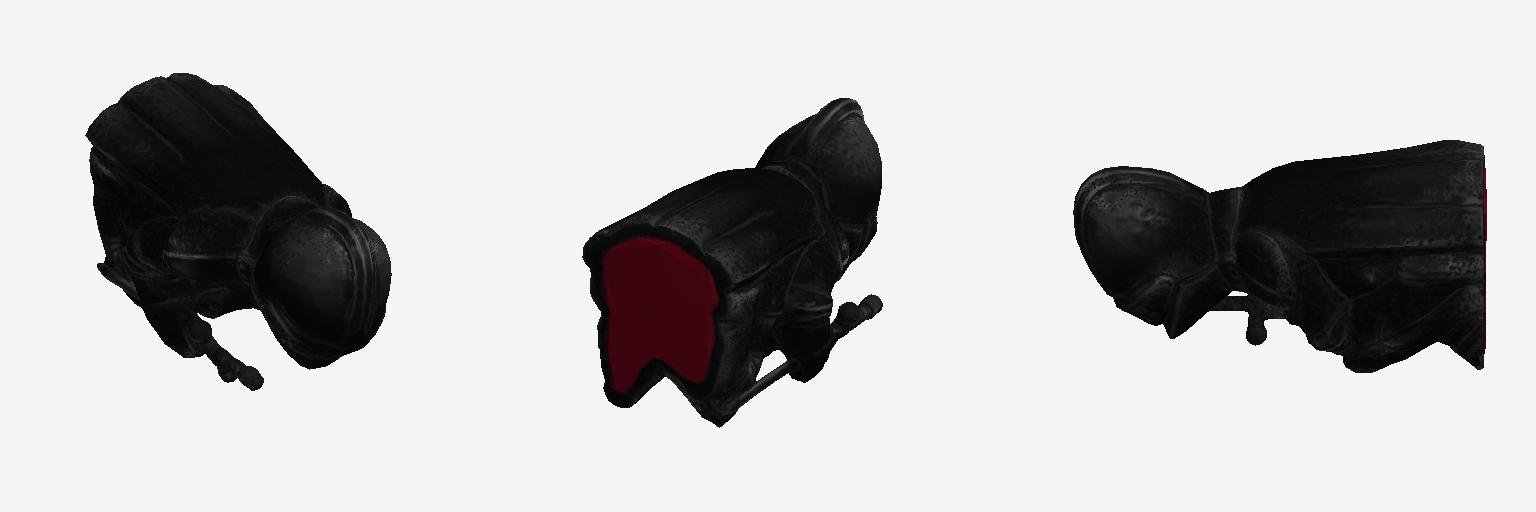
3 renders of one model, left to right at view 1: azimuth 30°, elevation 25°; view 2: azimuth 150°, elevation 25°; view 3: azimuth 270°, elevation 25°, orthographic.
Visible parts, largest first — view 1: mmGroup0; view 2: mmGroup0; view 3: mmGroup0.
Part boxes in pixels (x1,y1,x2,y2): mmGroup0: (85, 73, 391, 390); mmGroup0: (582, 98, 882, 427); mmGroup0: (1073, 140, 1486, 372).
Size of the model in its own units: 3.74 by 4.09 by 7.12.
1 materials, 1 textured.